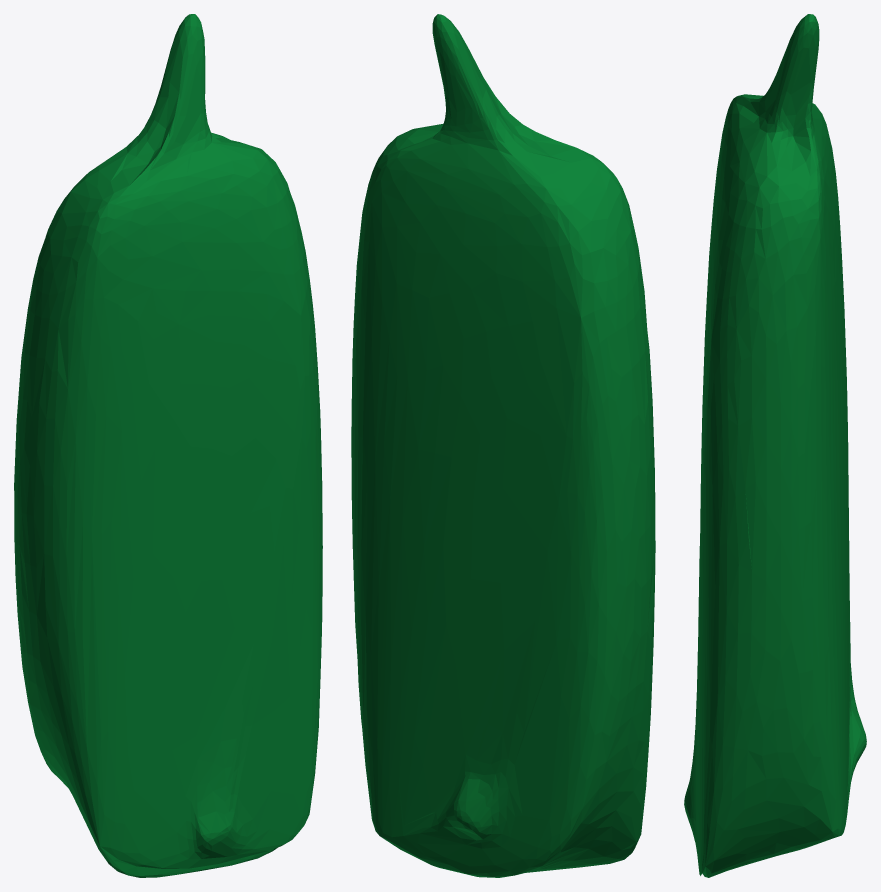
3 renders of one model, left to right at view 1: azimuth 30°, elevation 25°; view 2: azimuth 150°, elevation 25°; view 3: azimuth 270°, elevation 25°, orthographic. The views are drawn at different scales.
Parts seen in each view (by area): view 1: 538_Cube.2172; view 2: 538_Cube.2172; view 3: 538_Cube.2172.
Boxes of the visible parts, x1,y1,x2,y2 form: 538_Cube.2172: (14, 14, 322, 877); 538_Cube.2172: (351, 14, 655, 877); 538_Cube.2172: (684, 14, 866, 877).
Size of the model in its own units: 5.03 by 14.14 by 2.76.
